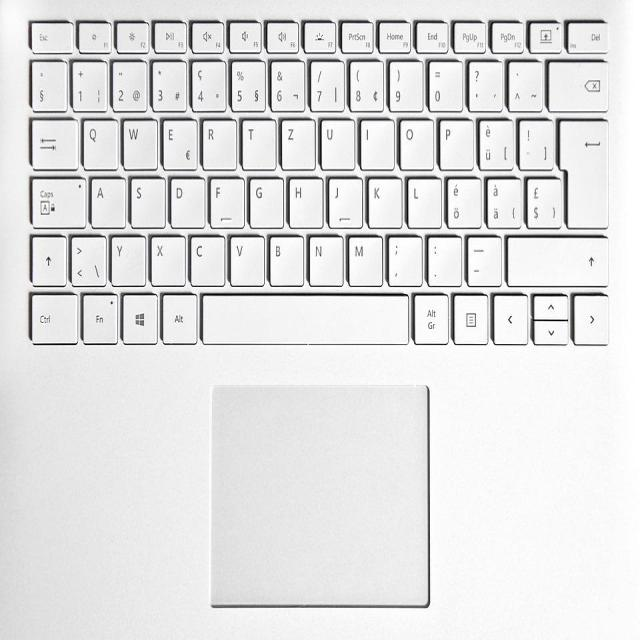0: (425, 56, 461, 110)
1: (68, 56, 105, 110)
2: (108, 56, 146, 110)
3: (148, 55, 185, 110)
4: (188, 55, 224, 110)
5: (228, 55, 264, 110)
6: (267, 55, 303, 110)
7: (307, 56, 343, 110)
8: (346, 56, 382, 110)
9: (385, 56, 421, 110)
a: (88, 172, 124, 225)
accent: (505, 56, 541, 110)
alt-left: (159, 288, 196, 342)
altgr-right: (410, 289, 448, 342)
b: (265, 230, 302, 284)
c: (187, 230, 223, 284)
comma: (384, 230, 421, 284)
d: (167, 173, 203, 226)
del: (546, 56, 608, 111)
e: (159, 114, 195, 168)
enter: (557, 114, 607, 228)
f: (206, 172, 242, 226)
g: (246, 173, 282, 225)
h: (285, 172, 321, 226)
i: (357, 114, 392, 167)
j: (325, 172, 361, 226)
k: (365, 172, 400, 226)
keyboard: (20, 7, 615, 360)
l: (404, 173, 440, 226)
less: (67, 230, 105, 284)
m: (347, 233, 383, 286)
minus: (463, 231, 500, 283)
n: (308, 234, 344, 288)
o: (396, 114, 432, 168)
p: (436, 114, 472, 168)
point: (424, 231, 461, 283)
q: (79, 114, 115, 167)
r: (199, 114, 234, 167)
s: (127, 173, 163, 226)
shift-left: (28, 231, 65, 284)
shift-lock: (26, 172, 85, 226)
shift-right: (506, 232, 609, 287)
space: (199, 288, 408, 344)
strg-left: (25, 288, 77, 342)
t: (238, 114, 274, 167)
tab: (27, 113, 76, 168)
u: (317, 114, 353, 168)
v: (226, 230, 263, 284)
w: (119, 113, 155, 168)
x: (148, 230, 184, 283)
y: (107, 230, 144, 284)
z: (278, 114, 314, 168)
